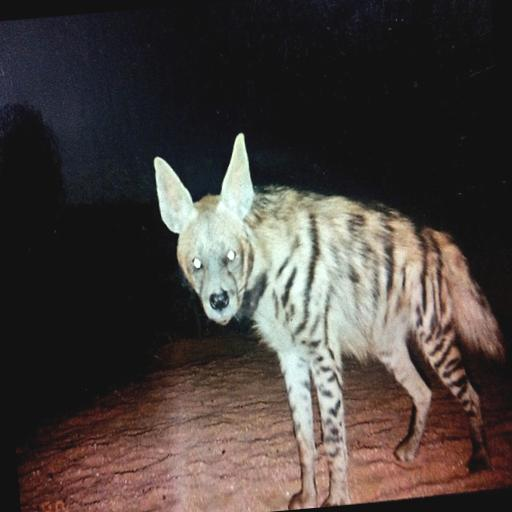hyenas: (133, 109, 509, 512)
